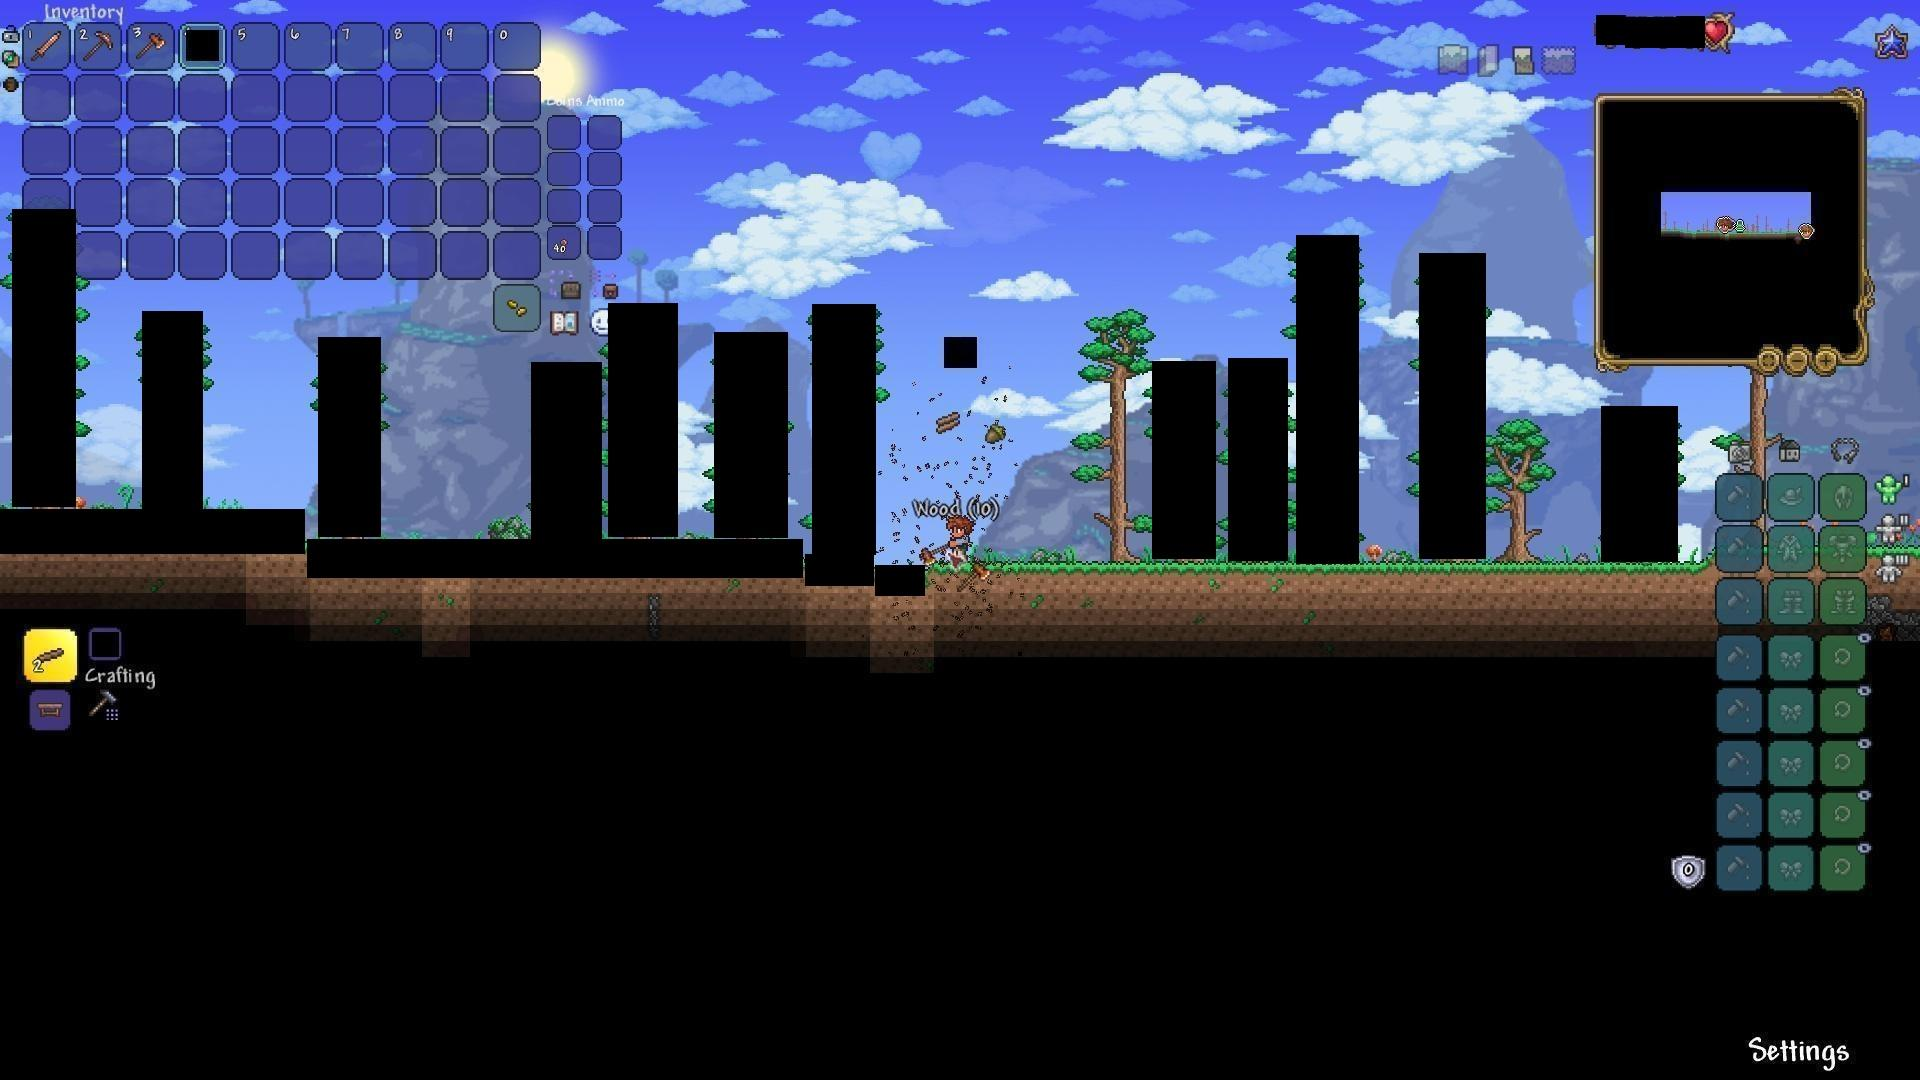dirt: (924, 562, 1700, 618)
heart: (1702, 17, 1731, 49)
tree: (1083, 299, 1147, 560), (1482, 414, 1555, 560)
wood: (932, 404, 964, 434)
workbench: (32, 698, 69, 723)
